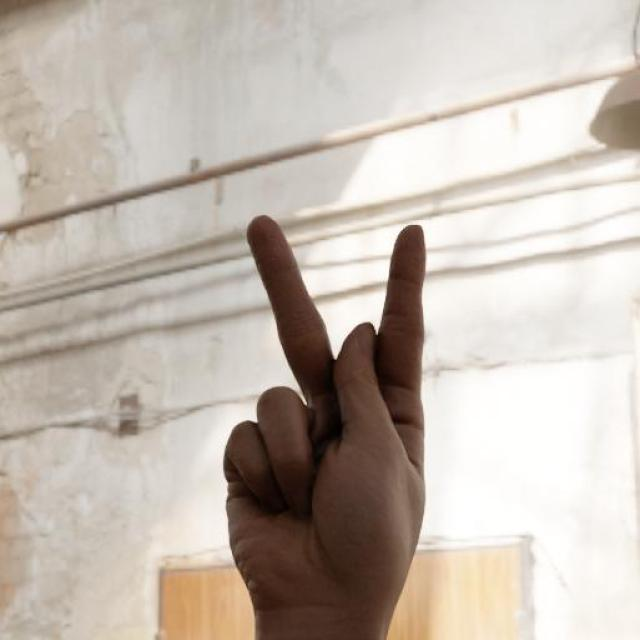K: (169, 171, 483, 640)
